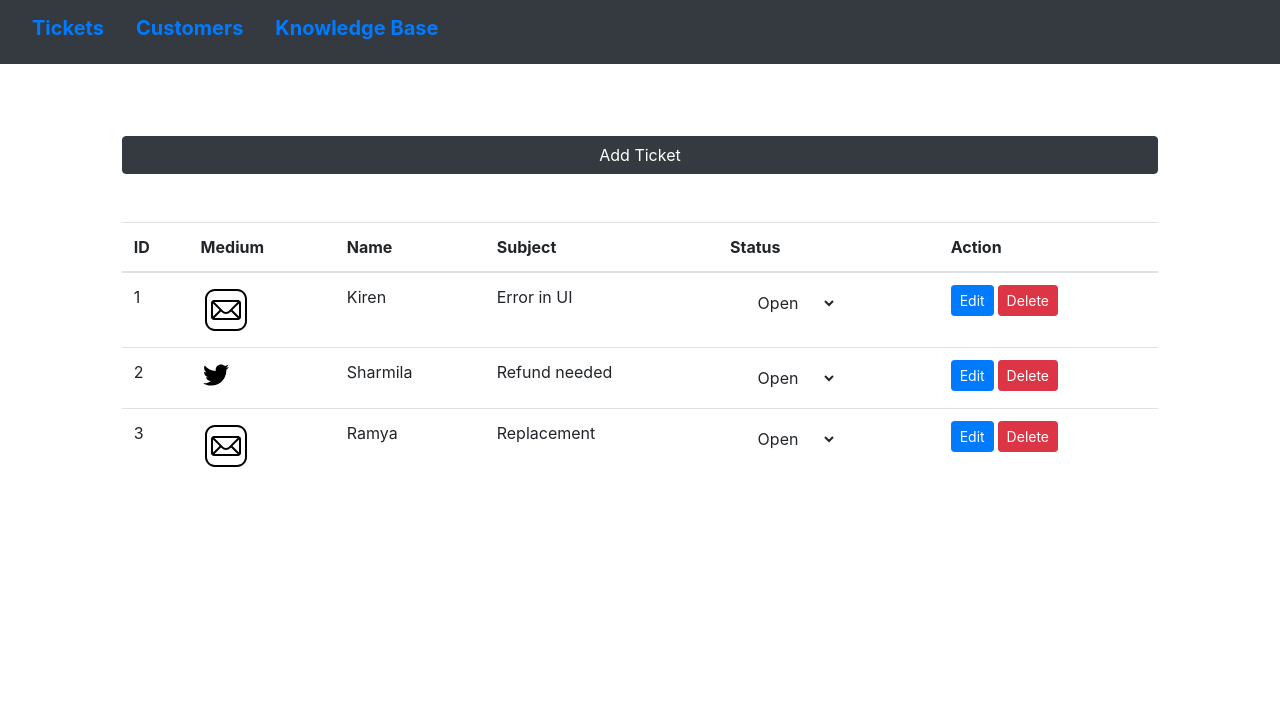
Test: desk learning app Home Test › should edit the tickets when we edit ticket in the edit page
Click the link "Edit" in the row of "Kiren". click: (973, 301)
box: [951,285,994,316]
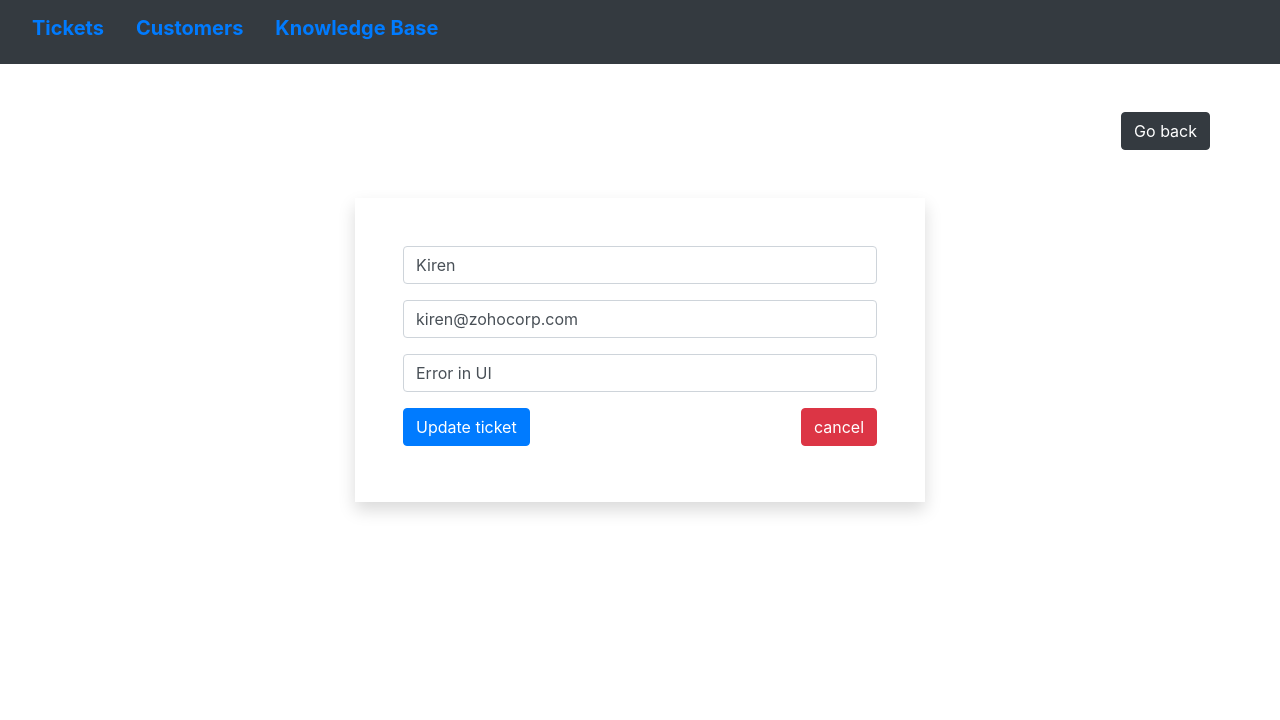
Replace the text in the field named "Name" with "RamarajKiren". click: (640, 265)
box: [403,246,877,284]
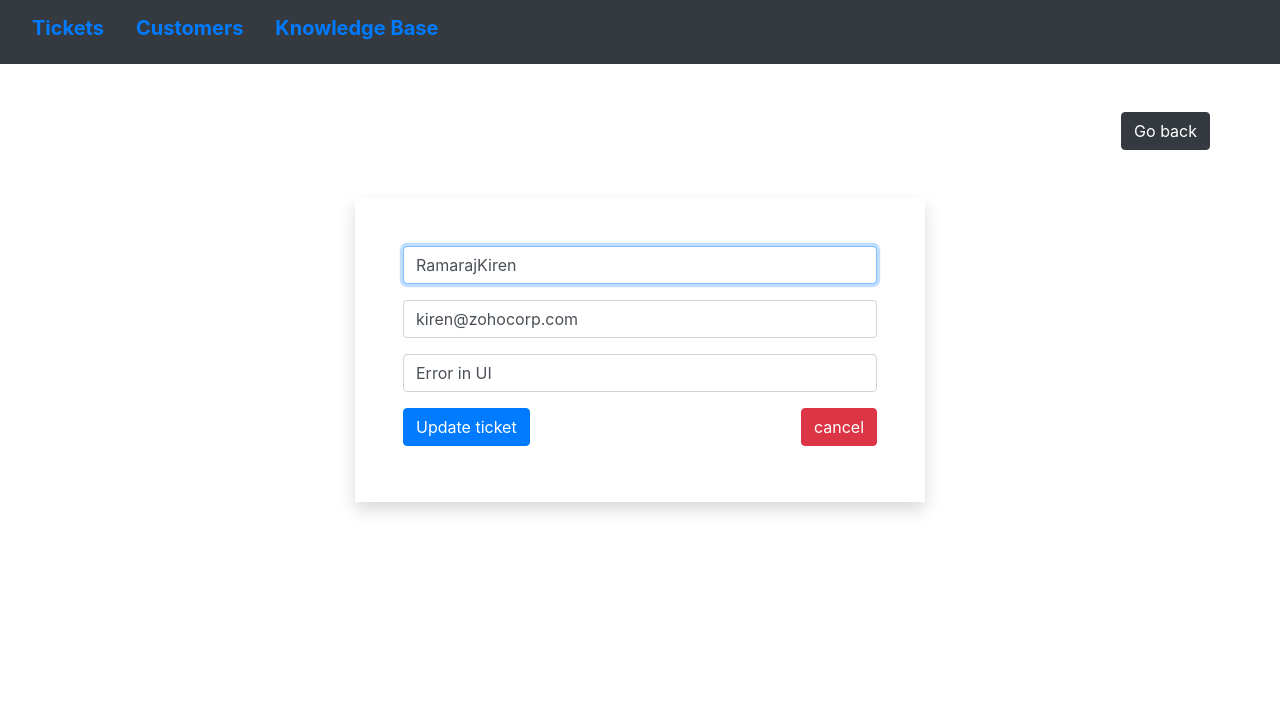
Replace the text in the field named "Email" with "RamarajKiren@gmail.com". click: (640, 319)
box: [403,300,877,338]
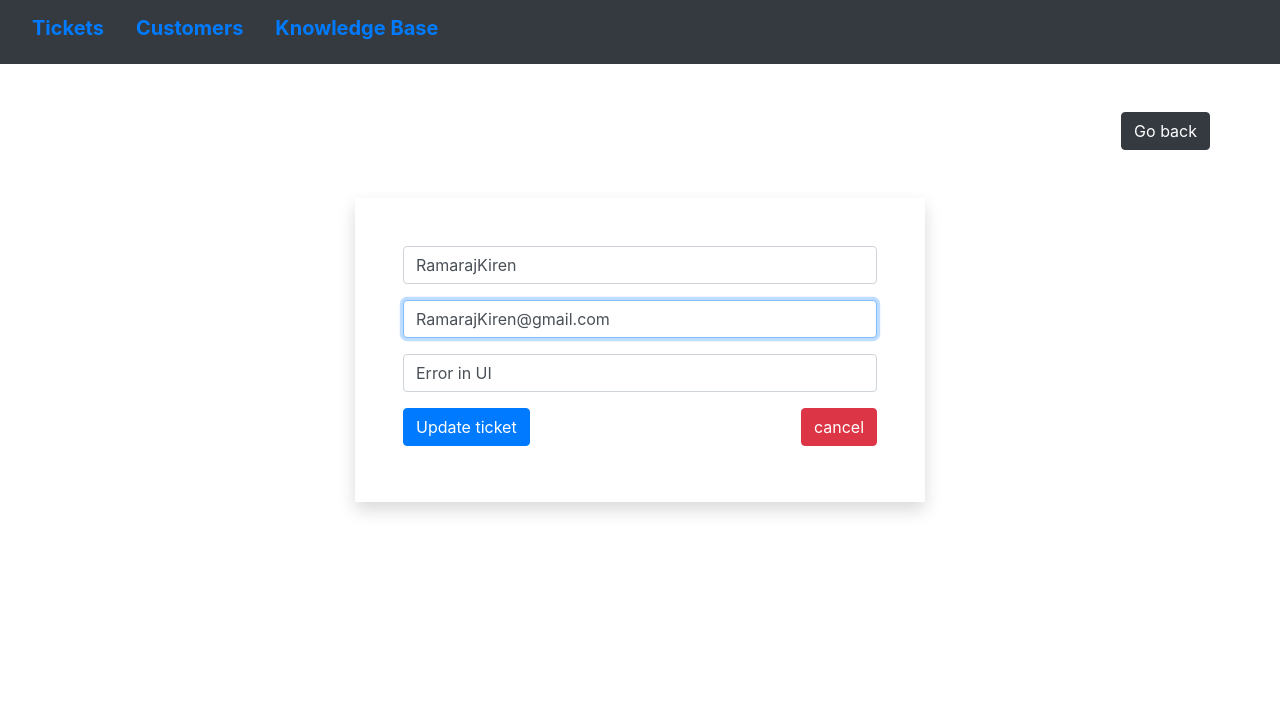
Click the button "Update ticket". click: (467, 427)
box: [403,408,530,446]
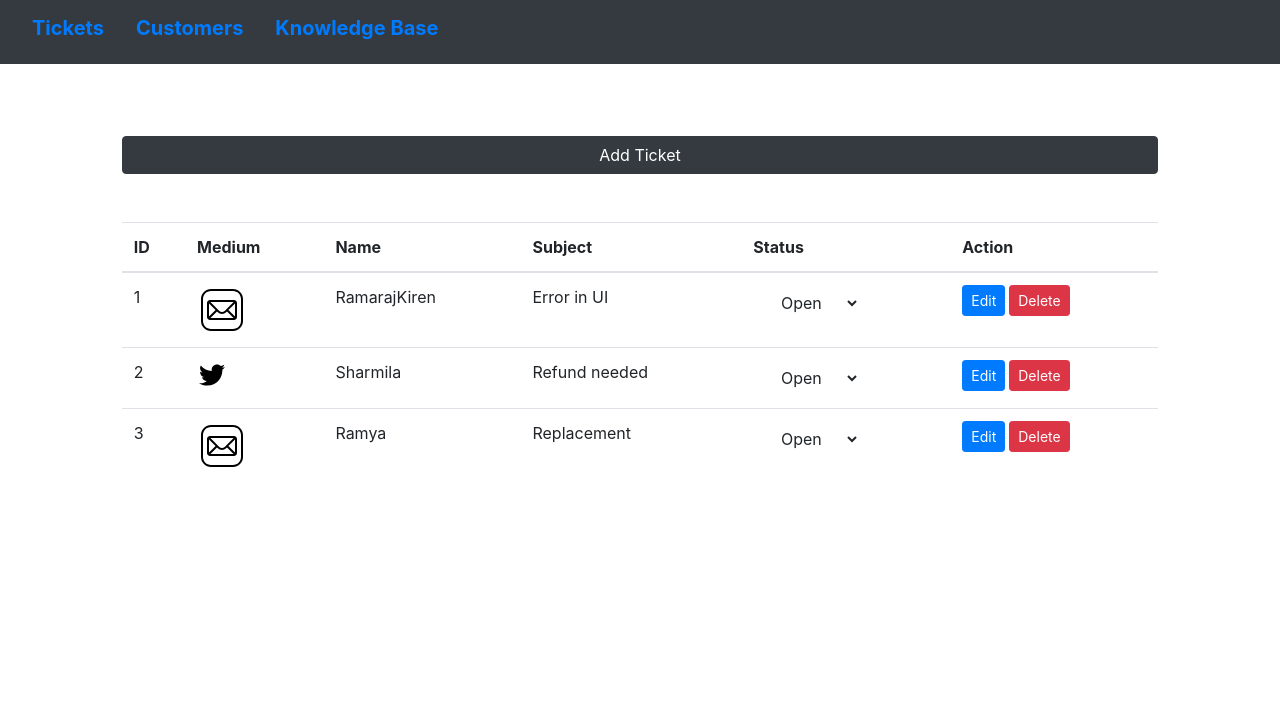
Result: the text "RamarajKiren" is shown at [323,272,520,348]
